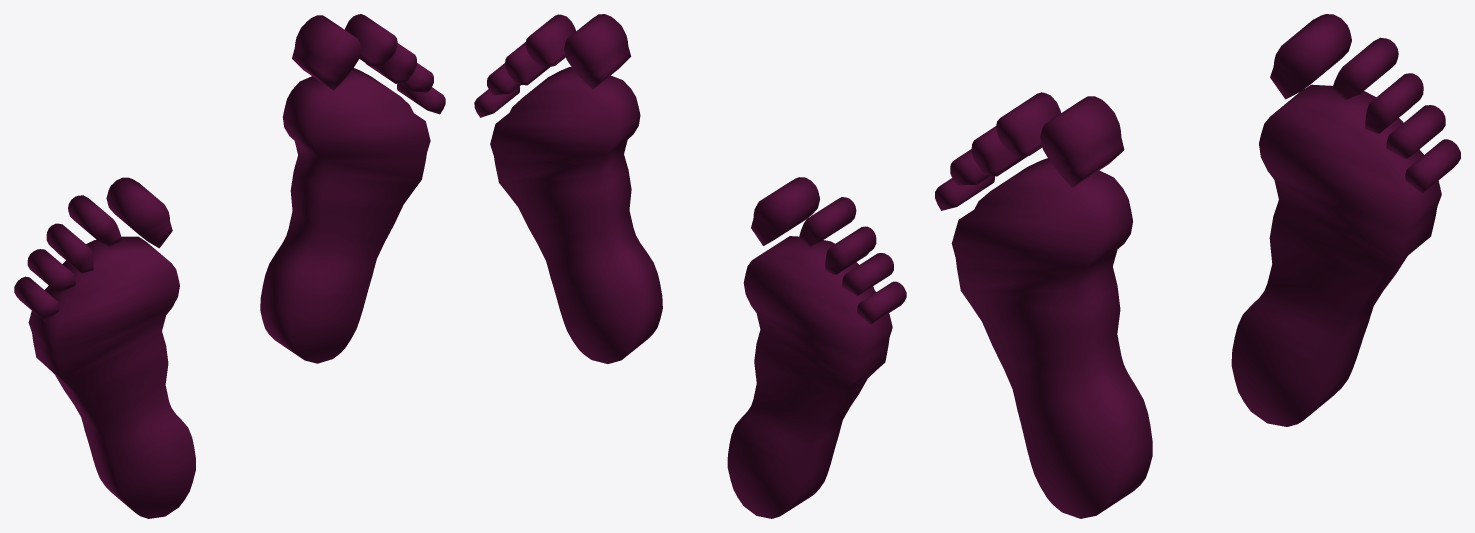
File: Footprints.fbx
3 views of the same model, side by side, from view 1: azimuth 30°, elevation 25°; view 2: azimuth 150°, elevation 25°; view 3: azimuth 330°, elevation 25° (orthographic). The views are drawn at different scales.
Visible parts, largest first — view 1: FootPrints; view 2: FootPrints; view 3: FootPrints.
Part boxes in pixels (x1,y1,x2,y2): FootPrints: [14, 14, 445, 518]; FootPrints: [474, 14, 906, 518]; FootPrints: [935, 14, 1460, 518].
Size of the model in its own units: 253 by 261 by 34.63.
